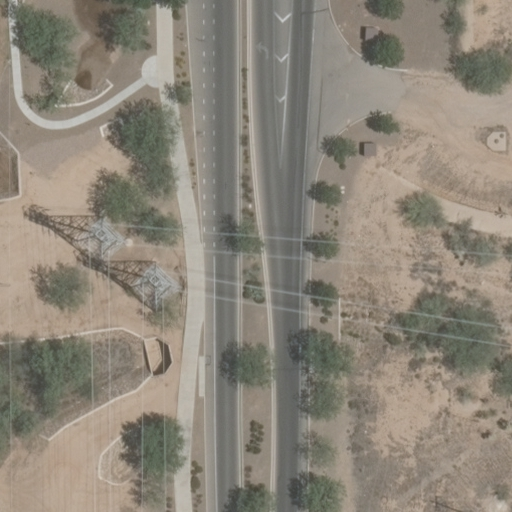TT: (131, 260, 181, 317), (78, 217, 120, 267)
